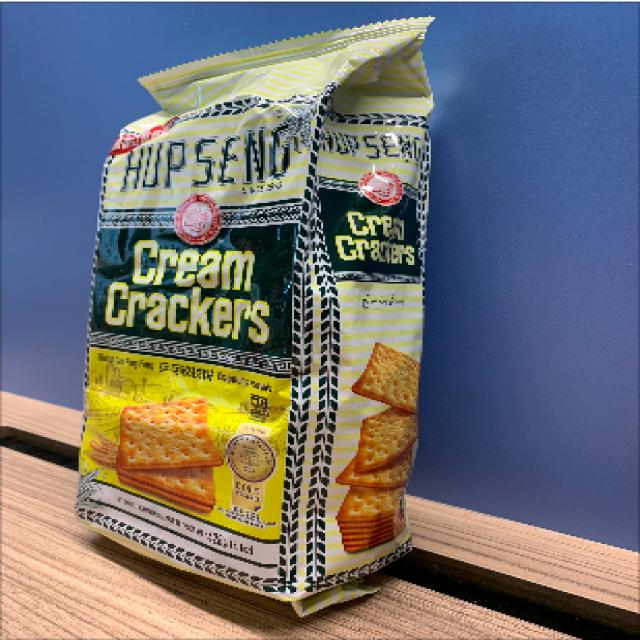object_name: (105, 67, 412, 558)
